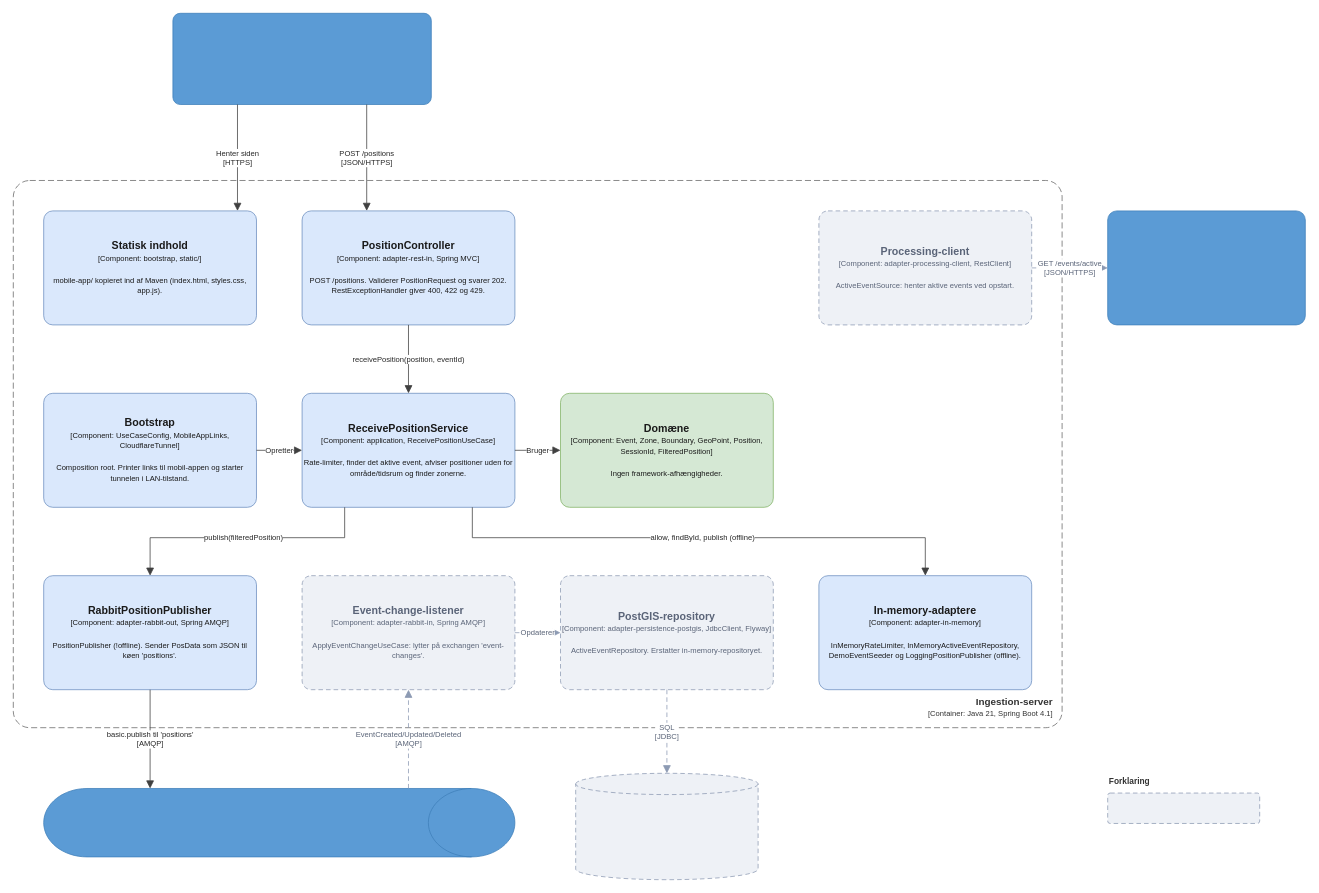
This 1319x893 diagram has some shape labels left out. The centre of each missing label's shape, as x and y in pixels:
Event-database [Container: PostgreSQL + PostGIS]: (x=666, y=826)
Message broker [Container: RabbitMQ 4]: (x=279, y=822)
Mobile app [Container: JavaScript, HTML] Samtykkeside: (x=301, y=58)
Processing-server [Container: C#, ASP.NET Core]: (x=1206, y=267)
Stiplet grå: planlagt (ikke implementeret endnu): (x=1183, y=807)
